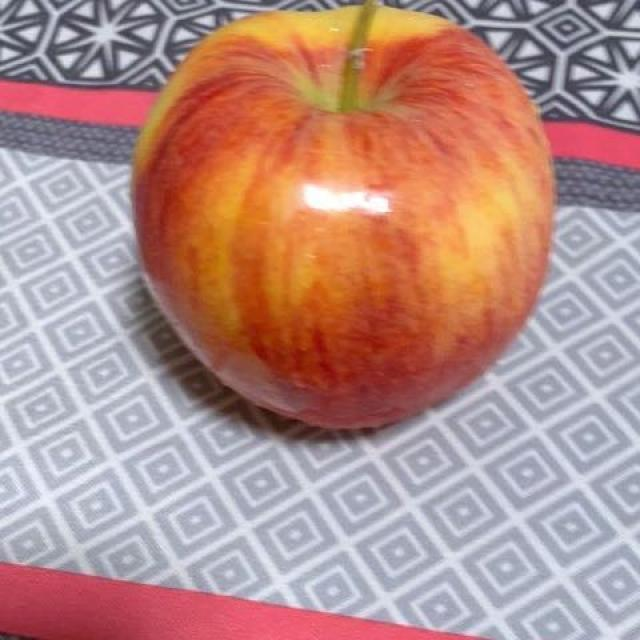apple: (138, 21, 541, 422)
